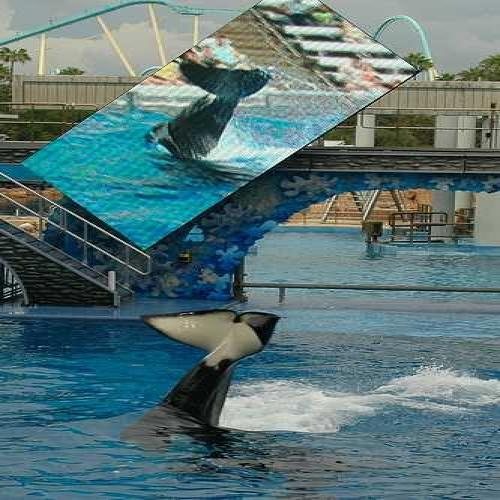killer_whale-endangered: (101, 281, 351, 474), (152, 46, 294, 183)
